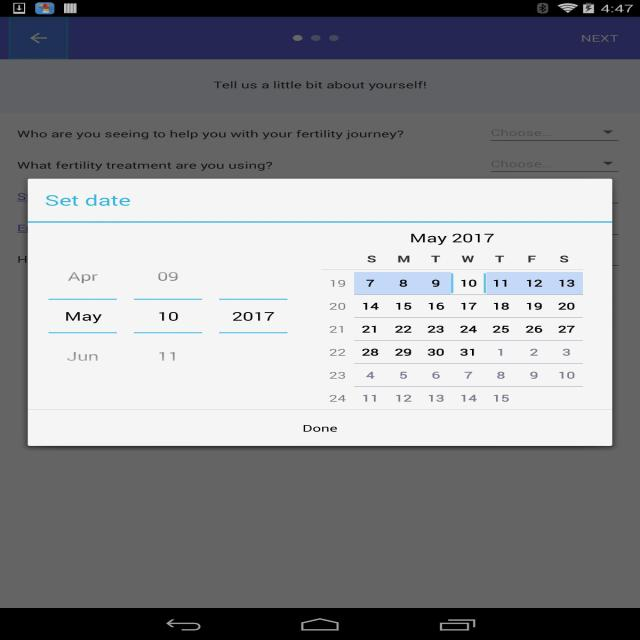button: (28, 409, 613, 446), (486, 151, 622, 175), (560, 20, 637, 58), (489, 123, 620, 141), (9, 21, 68, 57)
field: (29, 222, 610, 407)
heading: (210, 76, 436, 96), (45, 194, 136, 212)
label: (484, 157, 551, 170), (490, 128, 546, 138)
text: (16, 126, 409, 143), (8, 155, 282, 175)
